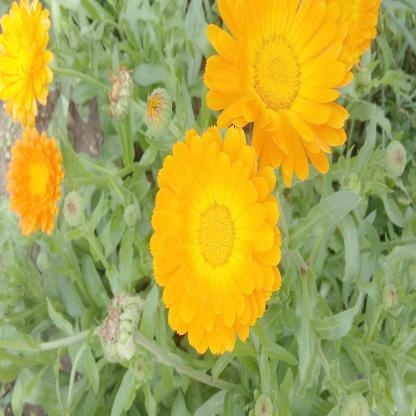marigold: (154, 135, 281, 356), (207, 0, 350, 185), (0, 3, 53, 122), (10, 128, 60, 232)
